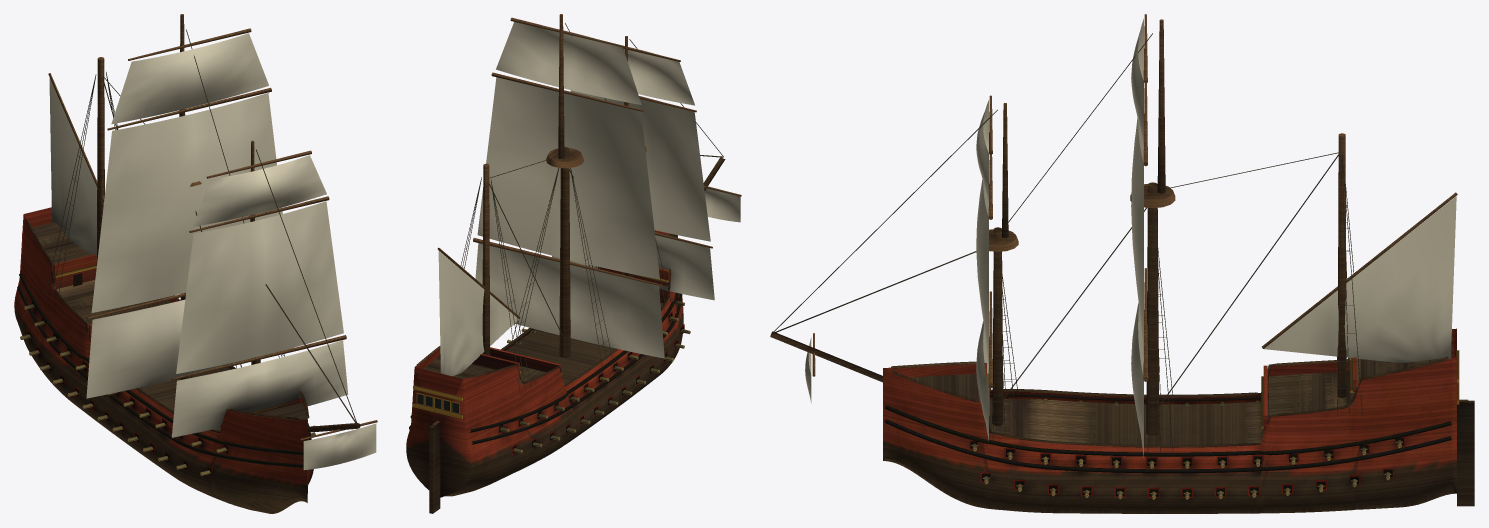
Rendered from model_built.glb.
3 renders of one model, left to right at view 1: azimuth 30°, elevation 25°; view 2: azimuth 150°, elevation 25°; view 3: azimuth 270°, elevation 25°, orthographic. The views are drawn at different scales.
Parts seen in each view (by area): view 1: sails, hull, rig, rigging, guns; view 2: sails, hull, rig, rigging, guns; view 3: hull, sails, rig, rigging, guns.
Boxes of the visible parts, box(x1,y1,x2,y2) form: sails: box(49, 33, 376, 470); hull: box(14, 207, 313, 513); rig: box(48, 14, 377, 440); rigging: box(45, 29, 358, 438); guns: box(20, 304, 315, 475); sails: box(438, 22, 740, 376); hull: box(406, 230, 684, 513); rig: box(437, 14, 741, 357); rigging: box(439, 23, 723, 394); guns: box(499, 301, 690, 453); hull: box(883, 328, 1474, 513); sails: box(805, 18, 1456, 457); rig: box(770, 14, 1457, 435); rigging: box(771, 33, 1362, 451); guns: box(971, 398, 1402, 499).
Size of the model in its own units: 20.89 by 42.11 by 55.25.
Materials: 5 (2 with a texture image).
